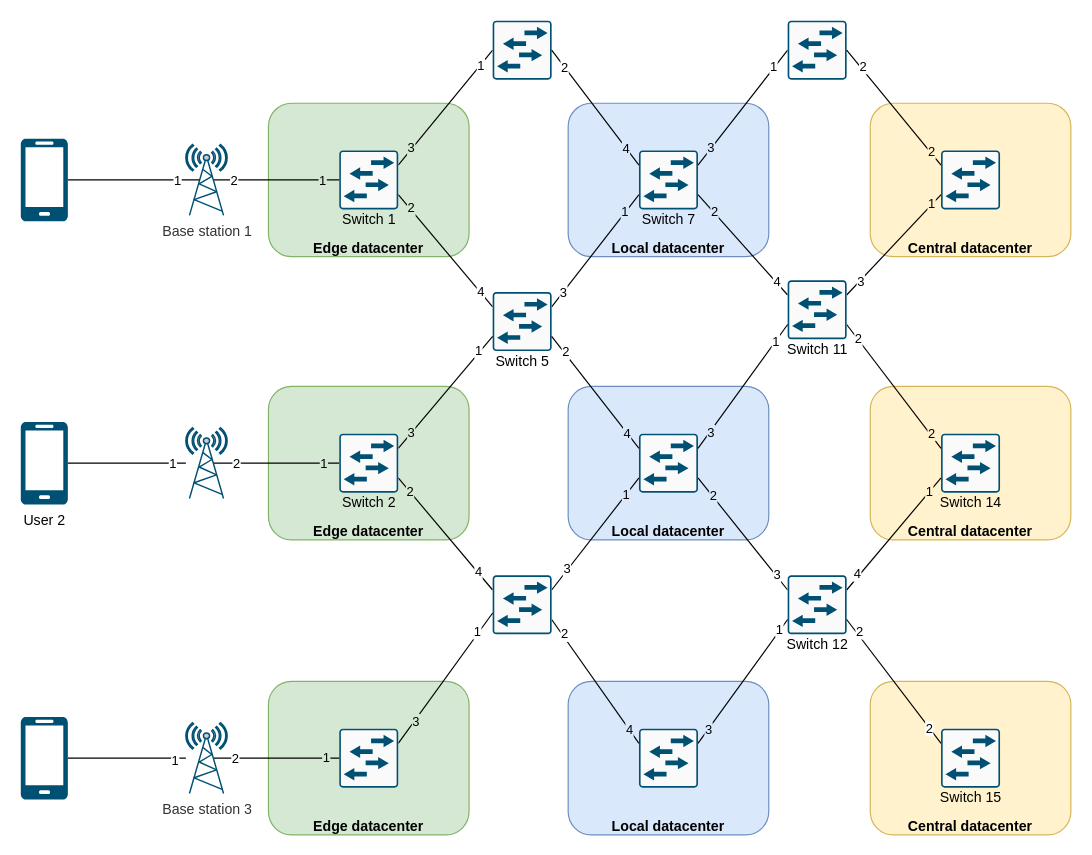
This 1092x855 diagram has some shape labels left out. The centre of each missing label's shape, as x and y in pixels:
Base station 2: the point at 206,462
Switch 10: the point at 816,49
Switch 13: the point at 970,179
Switch 3: the point at 368,757
Switch 4: the point at 521,49
Switch 6: the point at 521,604
Switch 8: the point at 668,462
Switch 9: the point at 668,757
User 1: the point at 43,179
User 3: the point at 43,757
